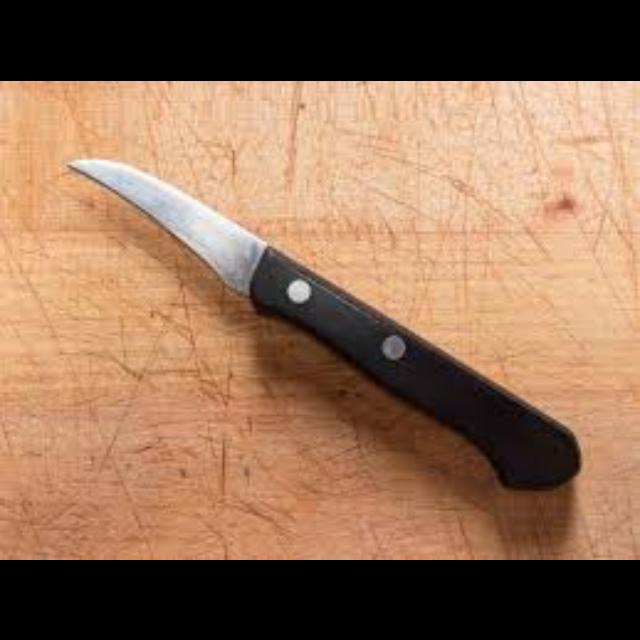knife: (64, 154, 580, 490)
